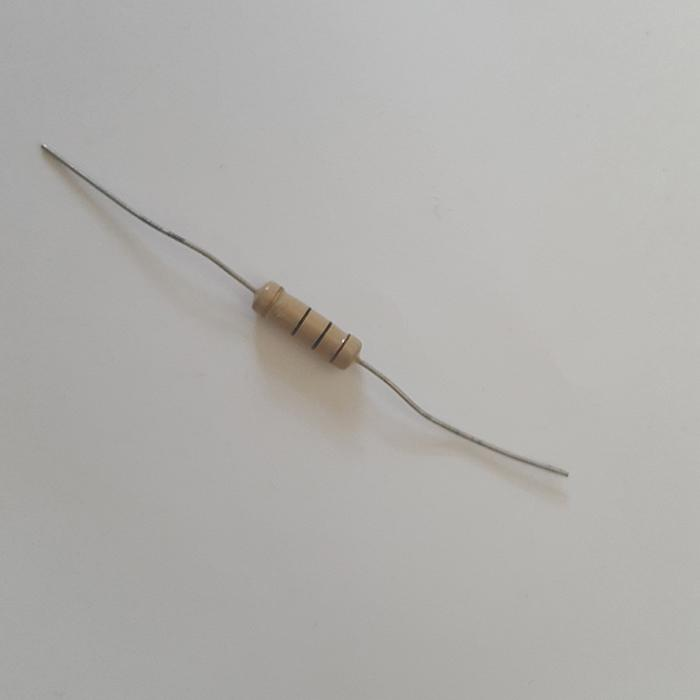resistor: (250, 278, 360, 368)
